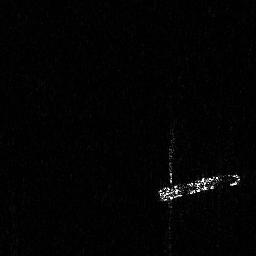ship: (157, 131, 242, 247)
